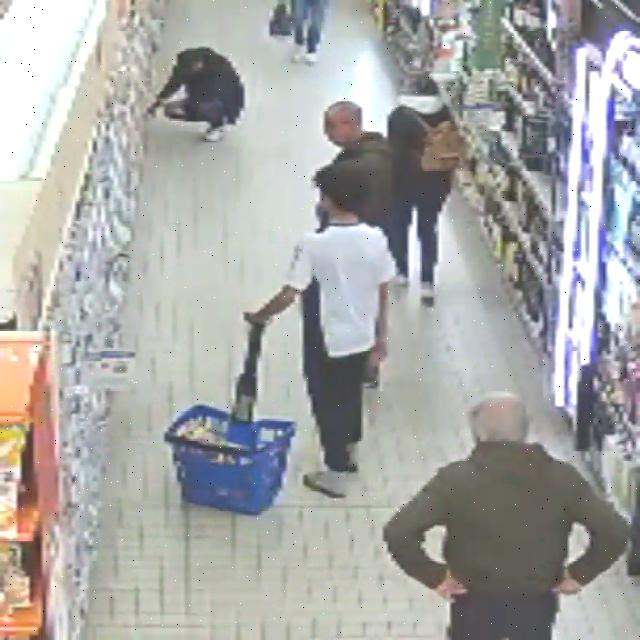bags: (420, 121, 465, 171), (270, 0, 293, 36)
hands: (435, 572, 467, 601), (555, 570, 582, 595), (370, 336, 388, 366), (243, 313, 267, 325), (146, 101, 161, 118)
person: (384, 394, 629, 639), (246, 163, 395, 497), (388, 77, 453, 304), (324, 101, 392, 238), (149, 47, 244, 141), (292, 0, 328, 64)
